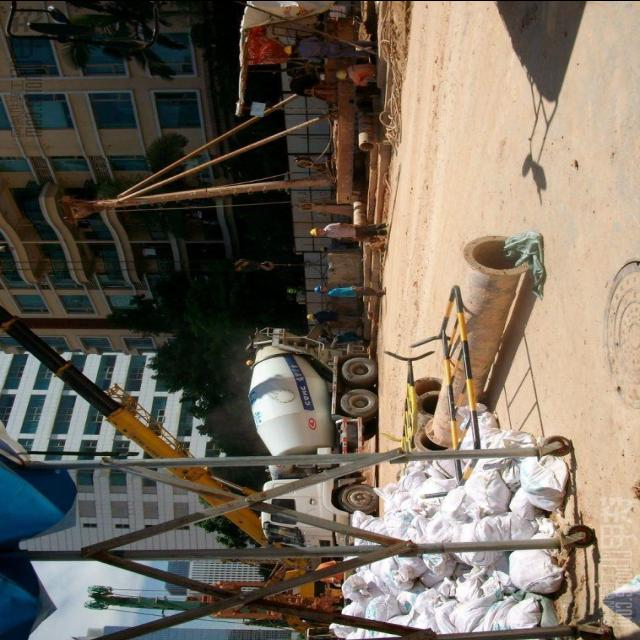helmet: (303, 220, 326, 238), (314, 284, 324, 296)
